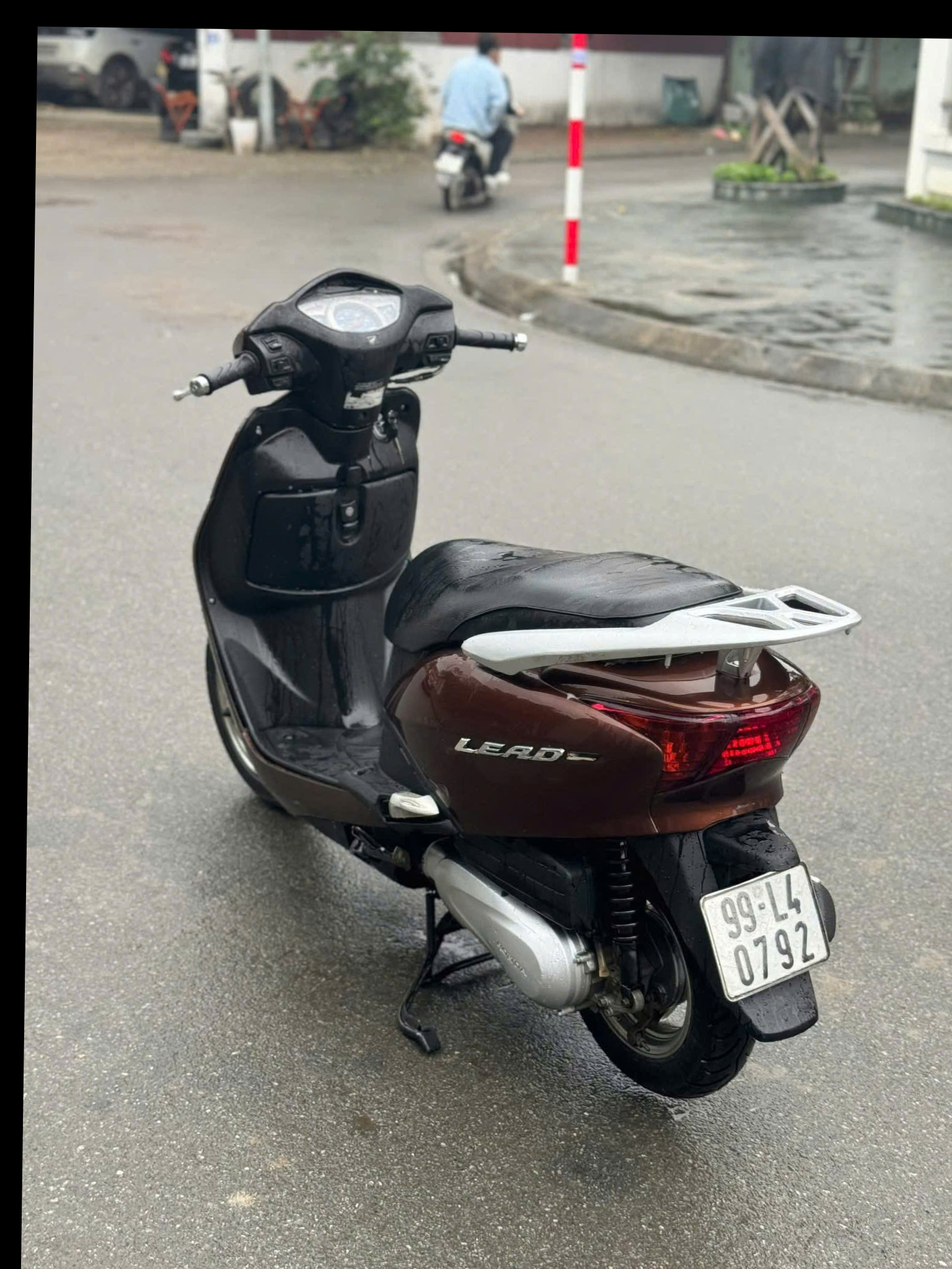Bien-so: (676, 848, 820, 1002)
